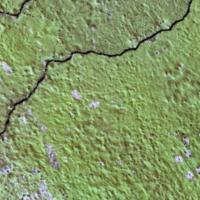crack: (1, 0, 192, 153)
